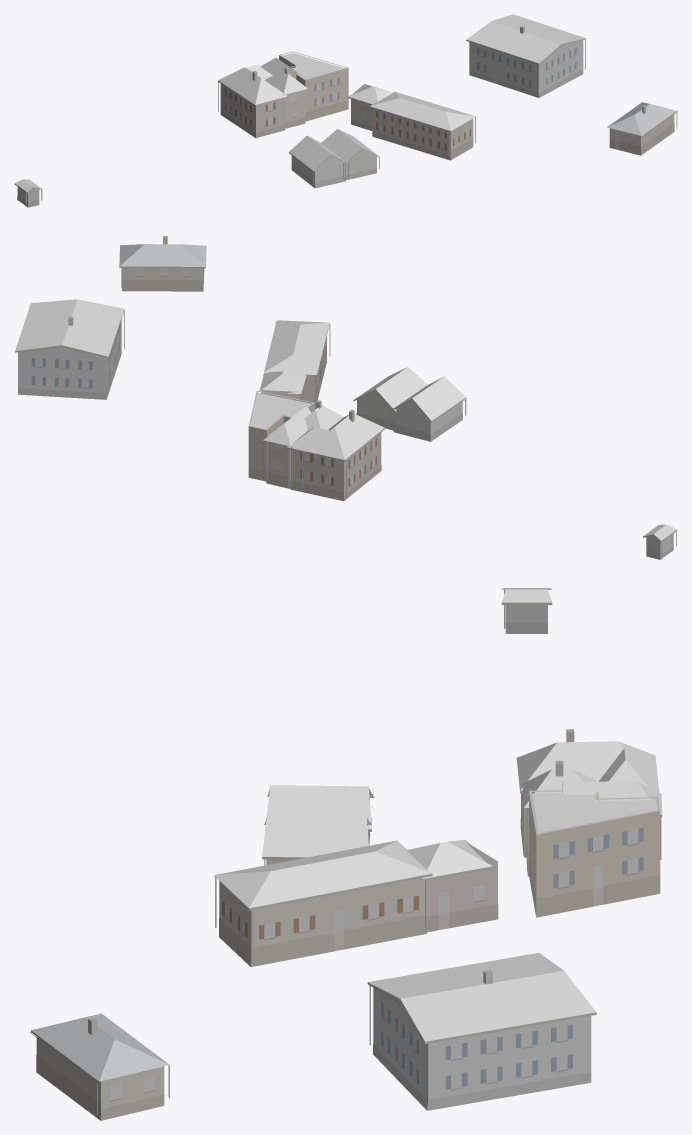
3 views of the same model, one above another, from view 1: azimuth 30°, elevation 25°; view 2: azimuth 150°, elevation 25°; view 3: azimuth 270°, elevation 25° (orthographic). The views are drawn at different scales.
Parts seen in each view (by area): view 1: bld; view 2: bld; view 3: bld.
Boxes of the visible parts, x1,y1,x2,y2 form: bld: [14, 14, 677, 207]; bld: [15, 236, 677, 559]; bld: [29, 588, 662, 1120].
Size of the model in its own units: 107 by 12.05 by 53.4.
